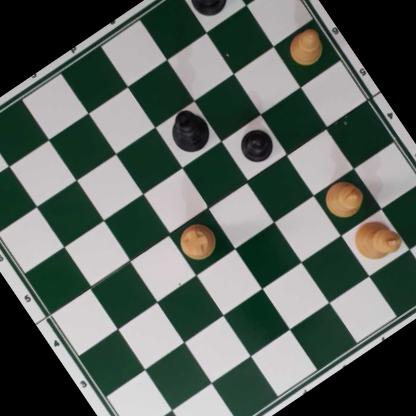black-king: (160, 102, 218, 160)
black-pawn: (233, 121, 280, 169)
black-rook: (175, 0, 238, 23)
white-bishop: (317, 172, 370, 225)
white-king: (345, 210, 406, 270)
white-pawn: (281, 23, 331, 73)
white-rook: (173, 217, 222, 266)
